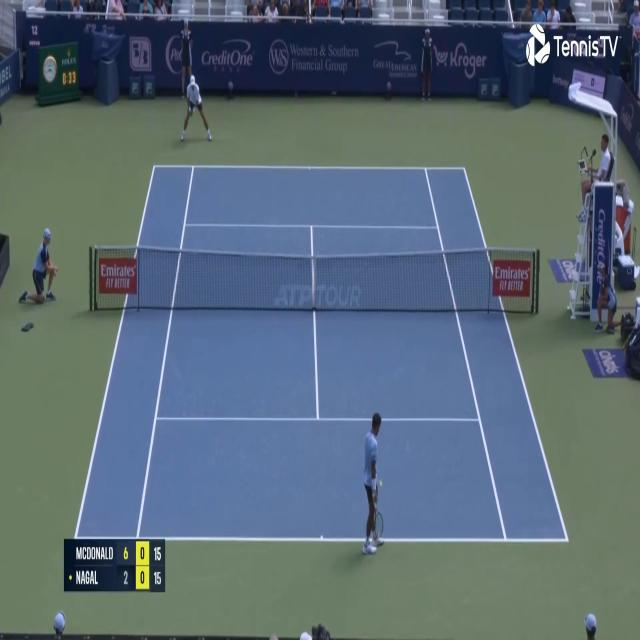tennis-player: (360, 410, 384, 559), (179, 68, 213, 146)
